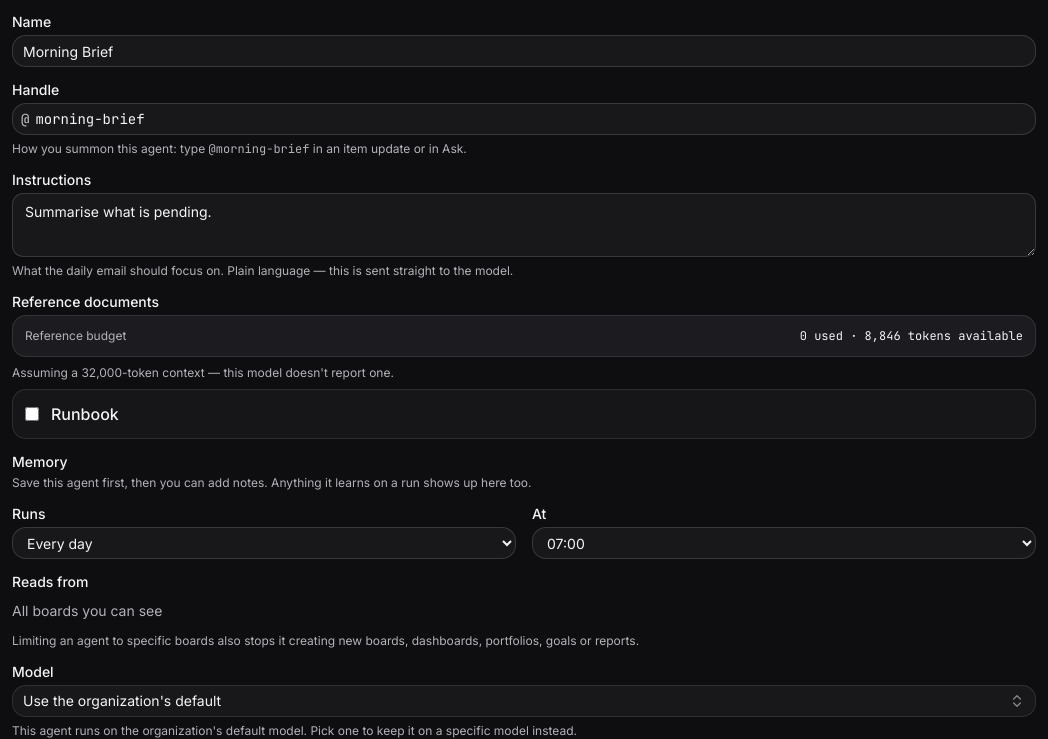
Scenario: AgentEditor · reference documents › surfaces a setAgentDocuments failure inline instead of reporting a clean save
The image size is (1048, 739).
Click the checkbox labelled "Runbook": coordinates (32, 414) left=25, top=407, right=39, bottom=421
(page scrolled)
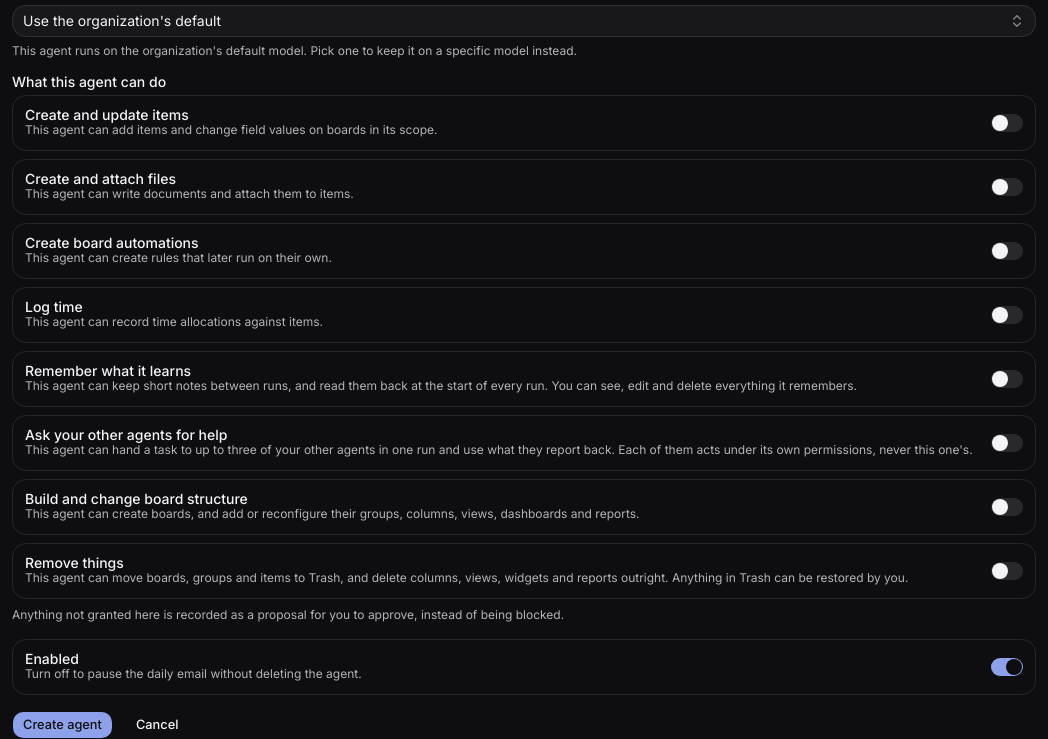
Click the button "Create agent": coordinates (62, 725) left=12, top=711, right=113, bottom=738
(page scrolled)
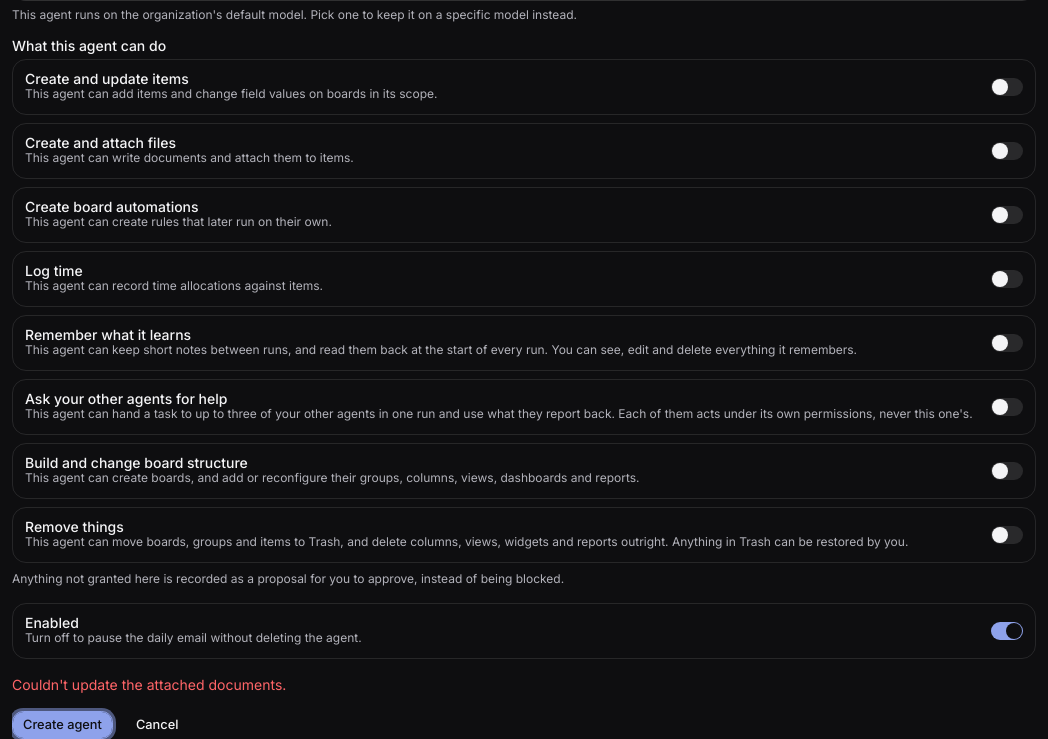
Expected: the message reads "Couldn't update the attached documents.", left=12, top=676, right=286, bottom=693
